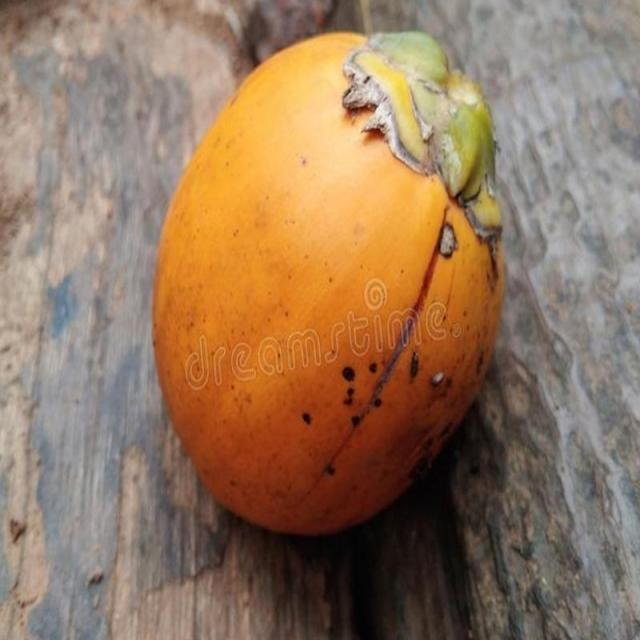good: (150, 31, 506, 540)
